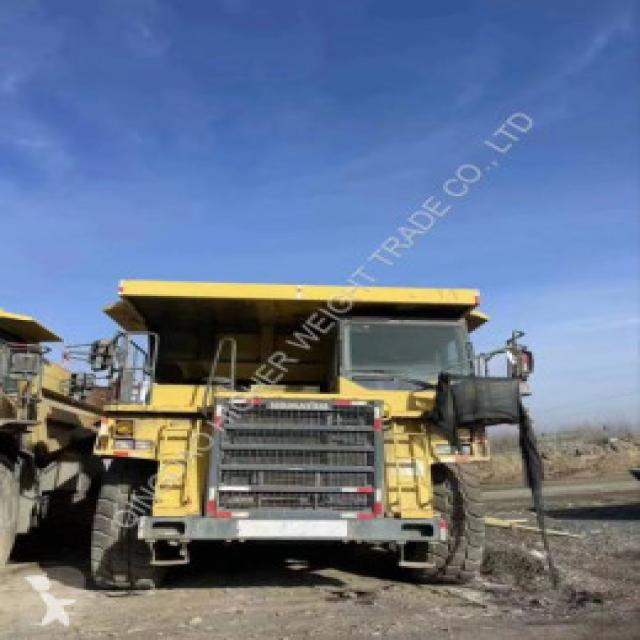dump_truck: (81, 274, 507, 584), (0, 313, 91, 557)
